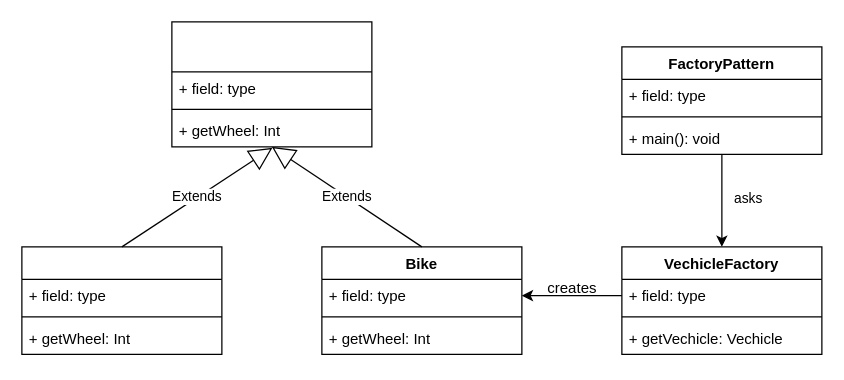
Image size: 844x380. Some labels were removed from this diagram. The box of each missing label's shape, as (x1, y1, x2, y2) in pixels:
"Abstract" Vechicle: (171, 21, 372, 147)
Car: (21, 246, 222, 354)
